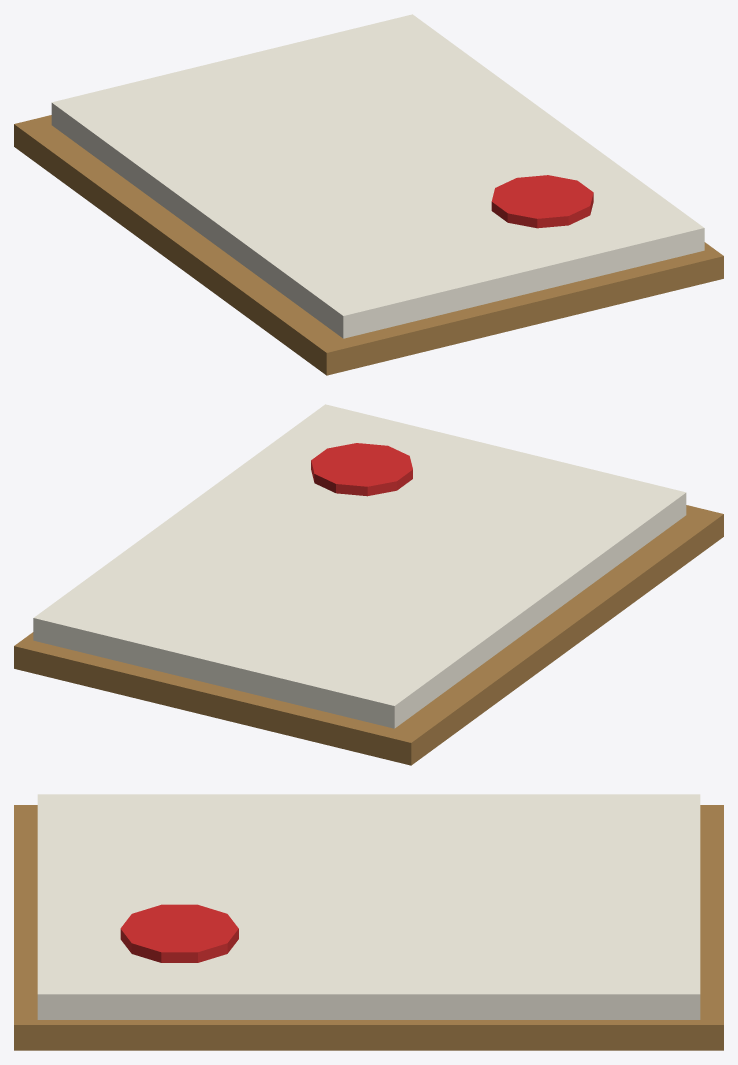
Rendered from truck_papers.glb.
3 renders of one model, top to bottom at view 1: azimuth 30°, elevation 25°; view 2: azimuth 150°, elevation 25°; view 3: azimuth 270°, elevation 25°, orthographic. The views are drawn at different scales.
Parts seen in each view (by area): view 1: sheets_papers_sheet, folder_papers_folder, seal_papers_seal; view 2: sheets_papers_sheet, folder_papers_folder, seal_papers_seal; view 3: sheets_papers_sheet, folder_papers_folder, seal_papers_seal.
Part boxes in pixels (x1,y1,x2,y2): sheets_papers_sheet: (51, 14, 704, 338); folder_papers_folder: (14, 115, 723, 375); seal_papers_seal: (491, 175, 593, 228); sheets_papers_sheet: (33, 404, 686, 728); folder_papers_folder: (14, 505, 723, 765); seal_papers_seal: (311, 443, 412, 496); sheets_papers_sheet: (37, 794, 700, 1019); folder_papers_folder: (14, 805, 723, 1050); seal_papers_seal: (120, 904, 238, 962).
Bounding box in the file's own units: 0.22 × 0.029 × 0.3.
